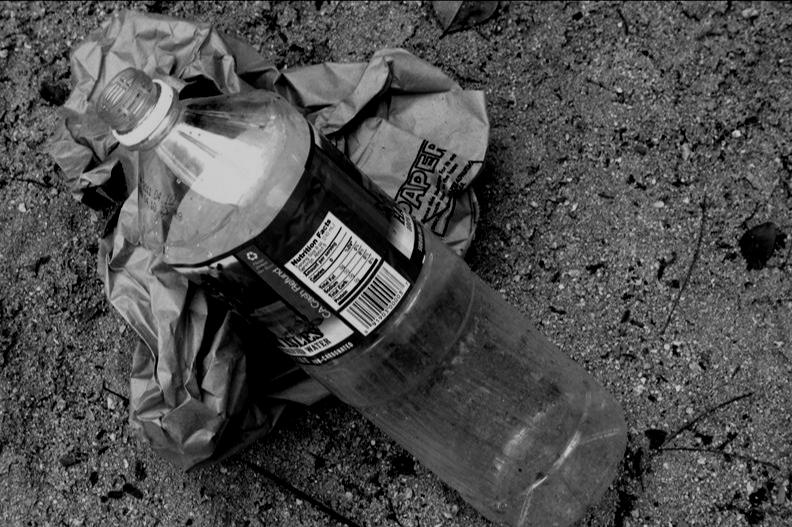bottle: (84, 65, 652, 527)
